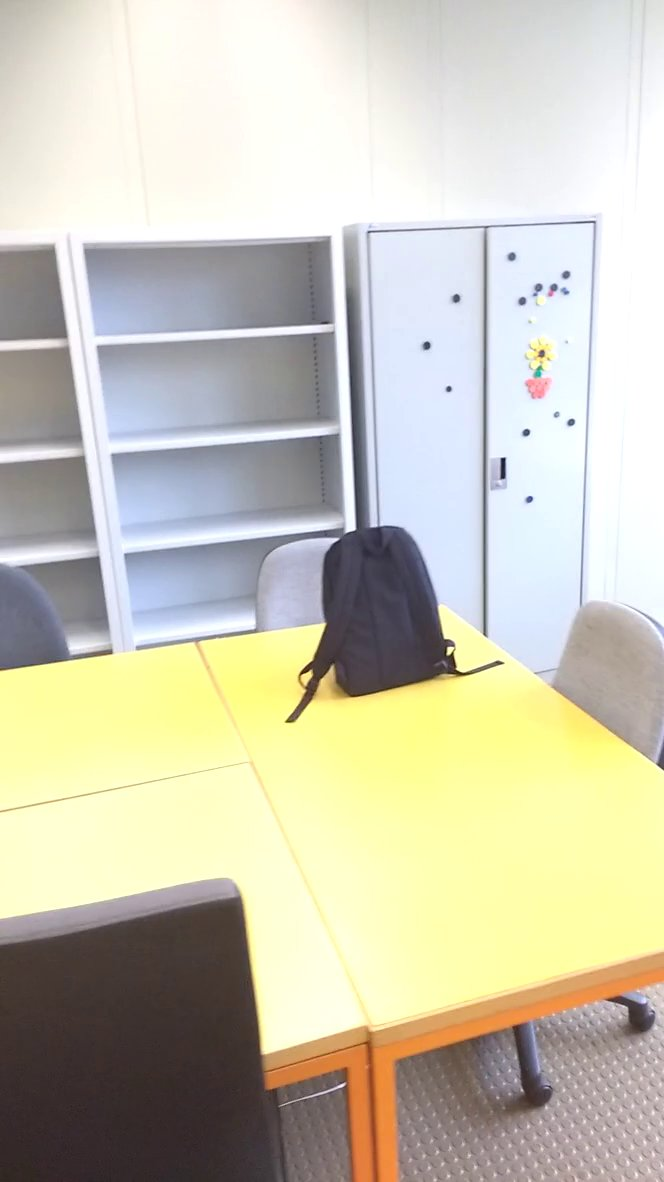bag: (281, 518, 513, 733)
chair: (537, 590, 664, 790)
